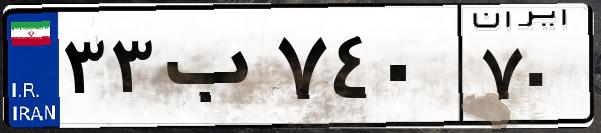0: (385, 28, 445, 110), (525, 38, 570, 115)
3: (57, 26, 110, 100), (110, 28, 158, 98)
4: (330, 28, 385, 110)
7: (270, 28, 330, 110), (475, 38, 525, 113)
ب: (158, 20, 270, 120)
